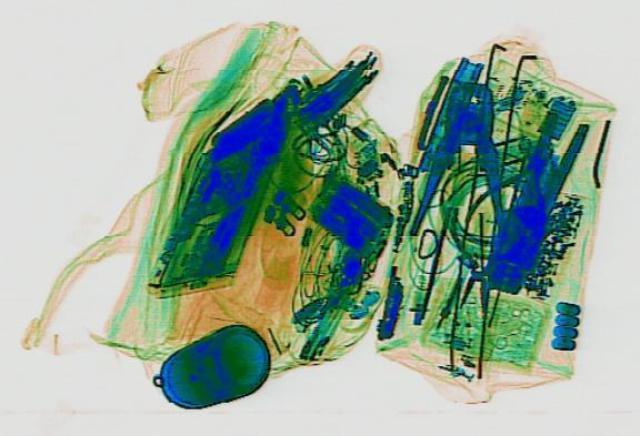Pliers: (478, 110, 592, 294), (406, 78, 522, 238)
